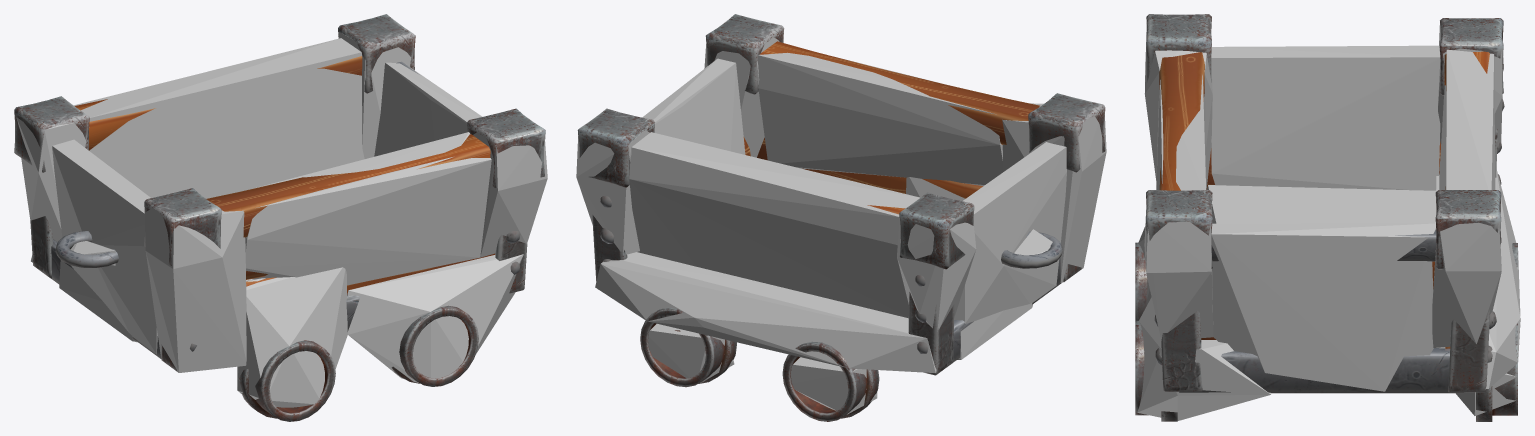
Rendered from SM_Trolley_a.fbx.
The picture shows the model from 3 angles, left to right: view 1: azimuth 30°, elevation 25°; view 2: azimuth 150°, elevation 25°; view 3: azimuth 270°, elevation 25°; orthographic projection. The views are drawn at different scales.
Visible parts, largest first — view 1: SM_Trolley_a_ConvexHulls, SM_Trolley_a; view 2: SM_Trolley_a_ConvexHulls, SM_Trolley_a; view 3: SM_Trolley_a_ConvexHulls, SM_Trolley_a.
Boxes of the visible parts, box(x1,y1,x2,y2) form: SM_Trolley_a_ConvexHulls: box(16, 32, 547, 407); SM_Trolley_a: box(14, 14, 545, 421); SM_Trolley_a_ConvexHulls: box(576, 19, 1106, 414); SM_Trolley_a: box(577, 14, 1105, 421); SM_Trolley_a_ConvexHulls: box(1137, 20, 1520, 420); SM_Trolley_a: box(1135, 14, 1517, 421).
Size of the model in its own units: 208 by 152 by 114.
2 materials, 1 textured.
